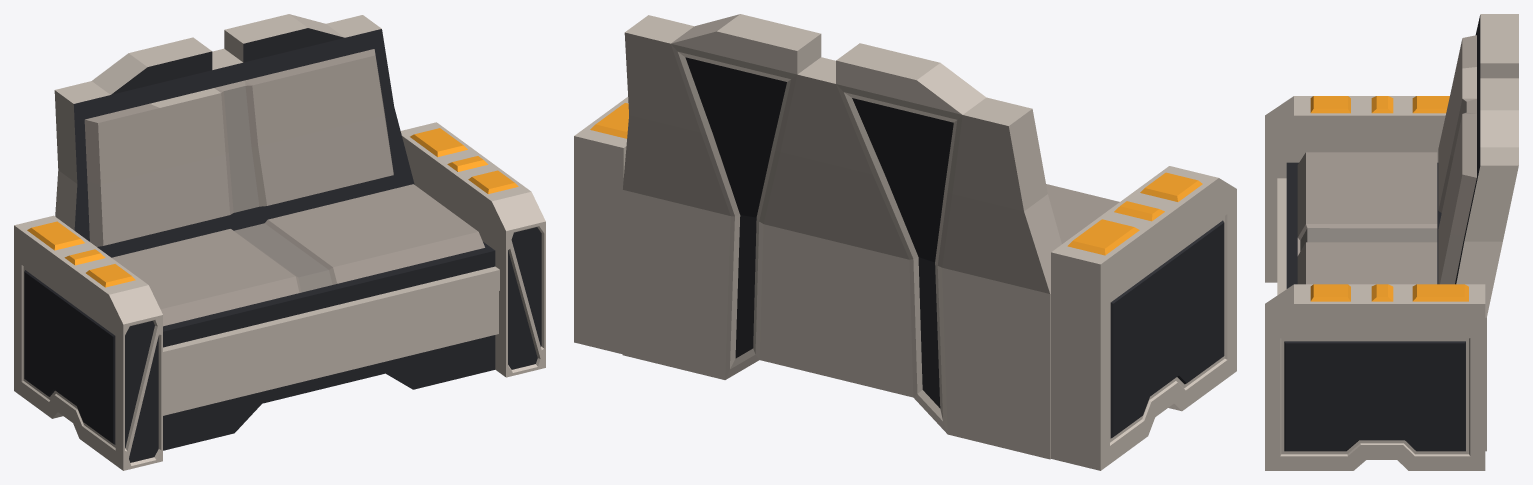
File: SM_Sofa.glb
3 renders of one model, left to right at view 1: azimuth 30°, elevation 25°; view 2: azimuth 150°, elevation 25°; view 3: azimuth 270°, elevation 25°, orthographic. The views are drawn at different scales.
Visible parts, largest first — view 1: SM_Sofa; view 2: SM_Sofa; view 3: SM_Sofa.
Boxes of the visible parts, x1,y1,x2,y2 form: SM_Sofa: (14, 14, 545, 470); SM_Sofa: (574, 14, 1236, 470); SM_Sofa: (1265, 14, 1518, 470).
Size of the model in its own units: 2 by 1.33 by 1.03.
Materials: 1 (1 with a texture image).
